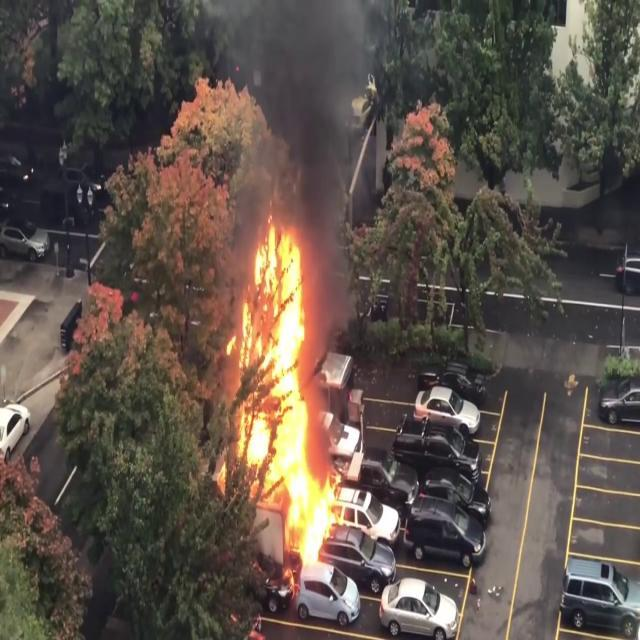Fire: (218, 216, 340, 581)
Smoke: (224, 0, 380, 245)
